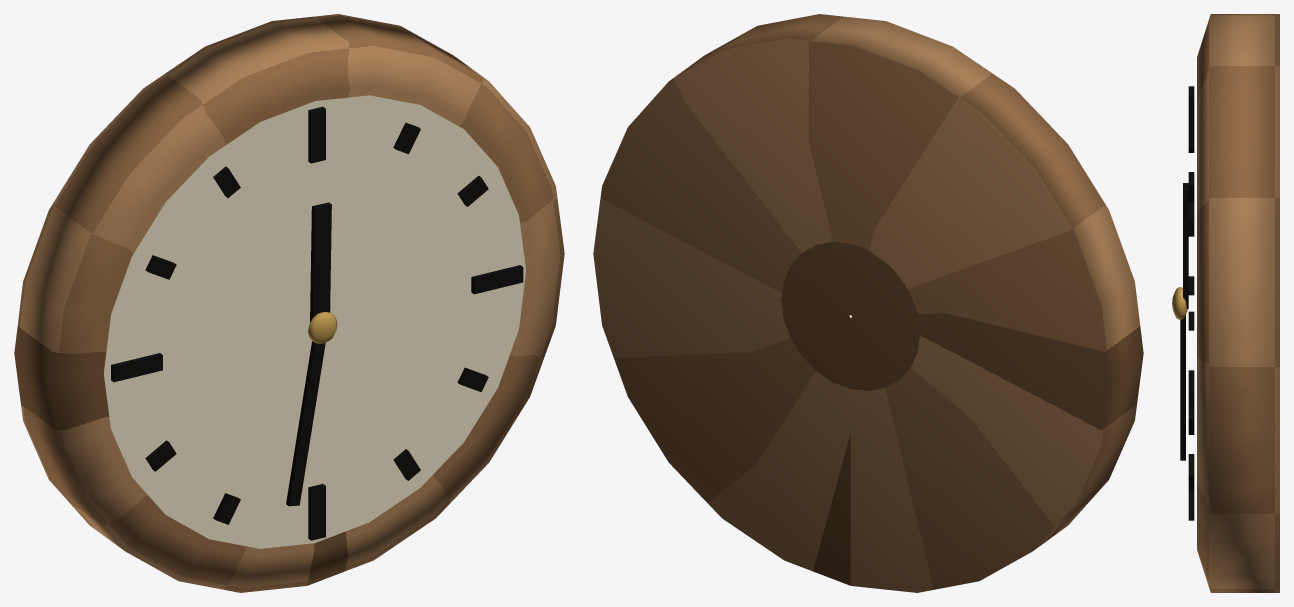
Rendered from wallClock.glb.
3 views of the same model, side by side, from view 1: azimuth 30°, elevation 25°; view 2: azimuth 150°, elevation 25°; view 3: azimuth 270°, elevation 25° (orthographic). The views are drawn at different scales.
Visible parts, largest first — view 1: wallClock, dyn_wood_variant; view 2: dyn_wood_variant; view 3: dyn_wood_variant, wallClock.
Part boxes in pixels (x1,y1,x2,y2): wallClock: (103,95,525,548); dyn_wood_variant: (14,14,564,592); dyn_wood_variant: (593,14,1143,592); dyn_wood_variant: (1197,14,1279,592); wallClock: (1172,86,1194,520).
Size of the model in its own units: 0.4201 by 0.4201 by 0.078.
4 materials, 2 textured.
